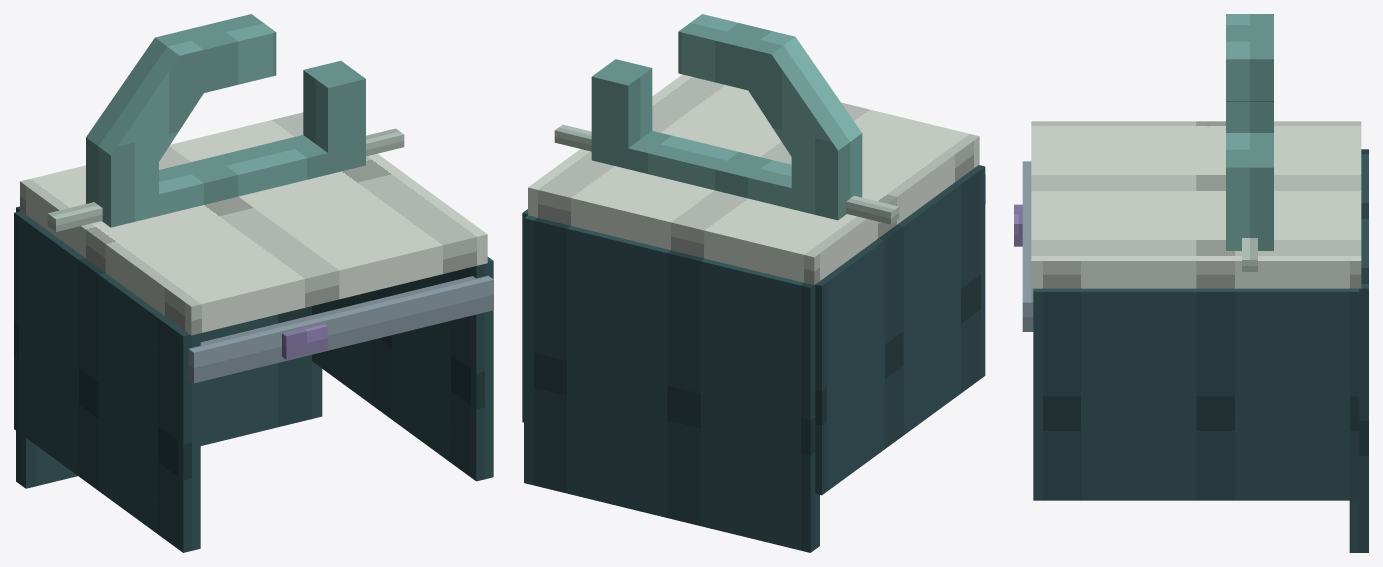
The model's file is huashen_taixu_helmet.obj.
3 renders of one model, left to right at view 1: azimuth 30°, elevation 25°; view 2: azimuth 150°, elevation 25°; view 3: azimuth 270°, elevation 25°, orthographic. The views are drawn at different scales.
Visible parts, largest first — view 1: cap_top, cap_side_-1, void_crown, cap_side_1, cap_brow, cap_back, void_crown_pin, void_brow; view 2: cap_back, cap_top, cap_side_-1, void_crown, void_crown_pin; view 3: cap_side_1, cap_top, void_crown, cap_back, cap_brow, void_crown_pin.
Boxes of the visible parts, box(x1,y1,x2,y2) form: cap_top: box(20, 112, 487, 335); cap_side_-1: box(14, 211, 200, 552); void_crown: box(86, 14, 365, 227); cap_side_1: box(312, 257, 493, 481); cap_brow: box(188, 275, 493, 383); cap_back: box(16, 206, 322, 488); void_crown_pin: box(47, 128, 404, 231); void_brow: box(282, 323, 327, 359); cap_back: box(524, 215, 819, 552); cap_top: box(528, 74, 979, 285); cap_side_-1: box(815, 165, 985, 495); void_crown: box(591, 14, 862, 220); void_crown_pin: box(554, 124, 899, 224); cap_side_1: box(1033, 288, 1359, 500); cap_top: box(1031, 121, 1361, 288); void_crown: box(1226, 14, 1273, 250); cap_back: box(1349, 149, 1368, 552); cap_brow: box(1022, 161, 1033, 331); void_crown_pin: box(1242, 238, 1257, 271).
Bounding box in the file's own units: 0.6313 × 0.7937 × 0.5781.
